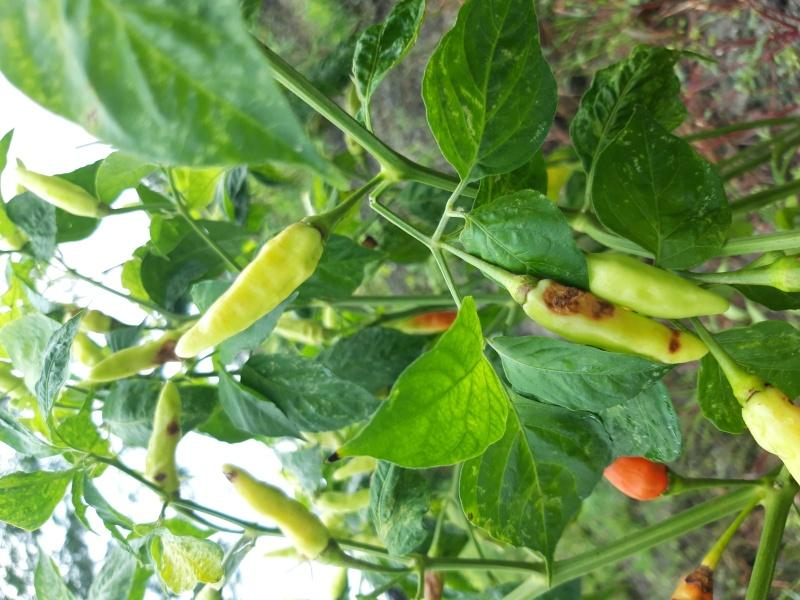antraknosa: (518, 272, 709, 367), (220, 462, 332, 561), (146, 379, 189, 505)
cabai_normal: (174, 218, 329, 361), (583, 249, 729, 320)
